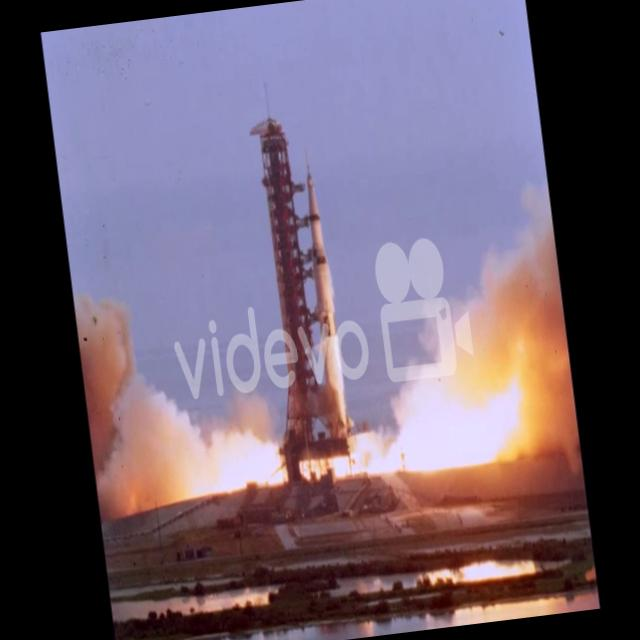rocket: (297, 155, 364, 451)
